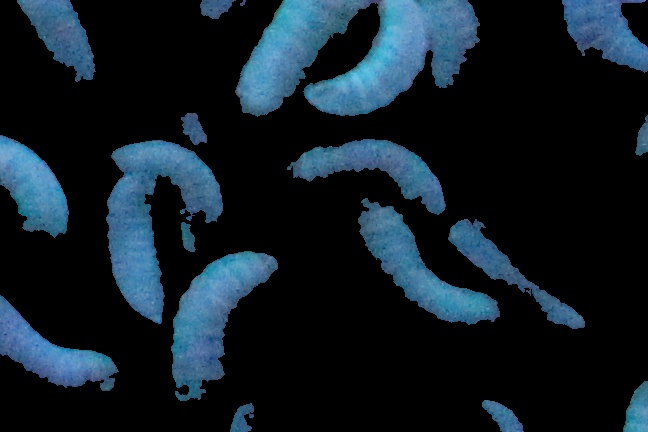larvae: (355, 201, 501, 324), (168, 250, 279, 402), (237, 1, 373, 117), (448, 221, 587, 334), (306, 1, 427, 115), (1, 288, 118, 399), (290, 138, 442, 214), (102, 179, 166, 325), (106, 140, 224, 218), (1, 131, 75, 241), (12, 1, 104, 84), (555, 1, 648, 76), (427, 1, 491, 101)
